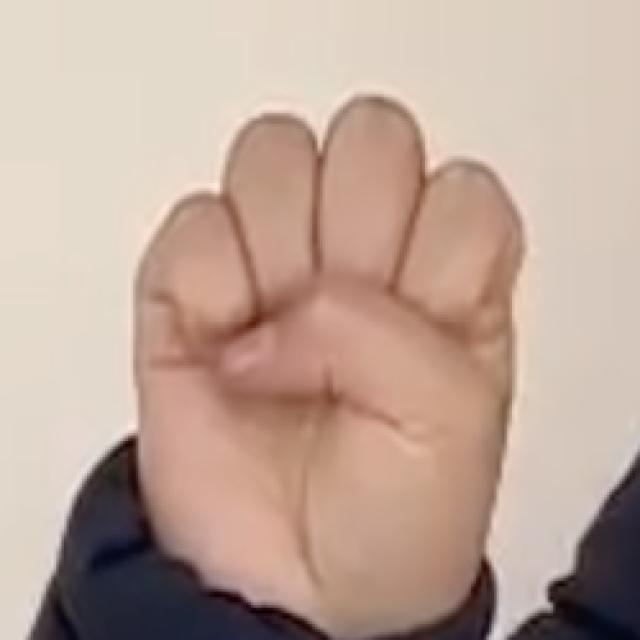S: (121, 83, 530, 599)
